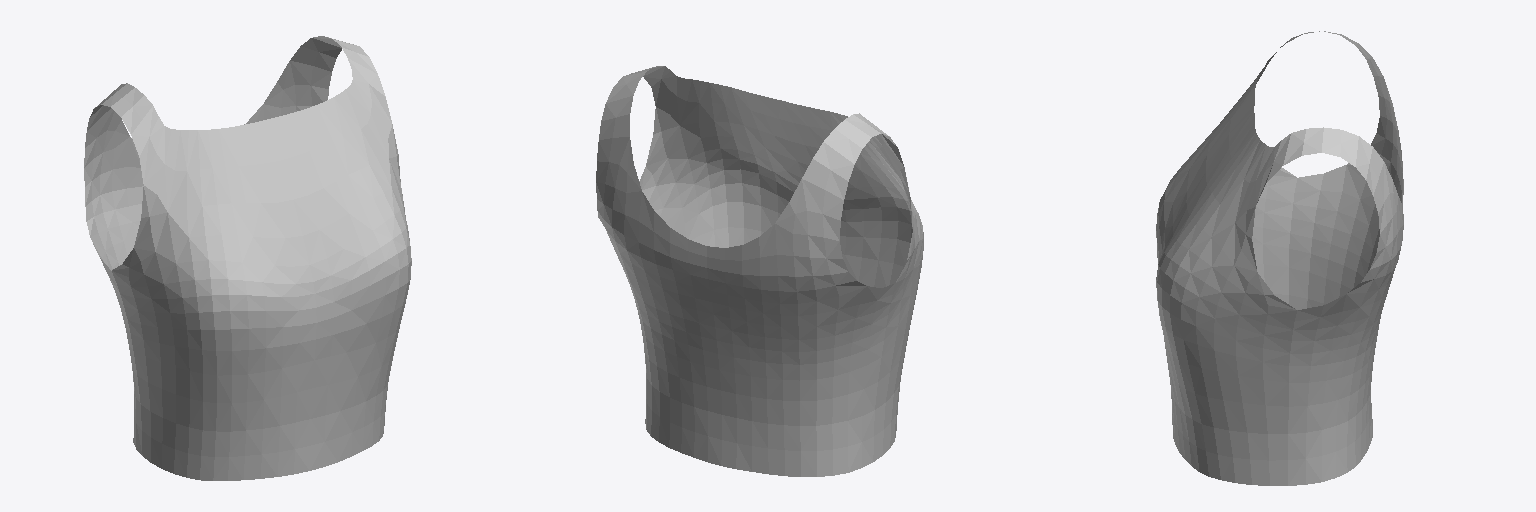
File: 6_bodiceboat.obj
The picture shows the model from 3 angles: view 1: azimuth 30°, elevation 25°; view 2: azimuth 150°, elevation 25°; view 3: azimuth 270°, elevation 25°; orthographic projection.
Visible parts, largest first — view 1: bodicefrontleft, bodicefrontright, bodicebackleft, object_7, bodicebackright, bodiceback; view 2: bodiceback, bodicebackleft, bodicefrontleft, object_7, bodicefrontright, bodicebackright; view 3: object_7, bodicebackright, bodicebackleft, bodicefrontleft, bodicefrontright, bodiceback.
Part boxes in pixels (x1,y1,x2,y2): bodicefrontleft: (111, 88, 316, 480); bodicefrontright: (269, 97, 408, 470); bodicebackleft: (84, 83, 142, 455); object_7: (333, 39, 411, 440); bodicebackright: (263, 36, 353, 119); bodiceback: (126, 105, 263, 236); bodiceback: (638, 192, 784, 475); bodicebackleft: (775, 120, 894, 476); bodicefrontleft: (781, 100, 923, 461); object_7: (623, 66, 728, 247); bodicefrontright: (710, 83, 811, 246); bodicebackright: (596, 71, 669, 447); object_7: (1170, 127, 1323, 485); bodicebackright: (1288, 128, 1399, 485); bodicebackleft: (1289, 31, 1399, 309); bodicefrontleft: (1156, 31, 1319, 303); bodicefrontright: (1156, 111, 1259, 471); bodiceback: (1361, 137, 1403, 459).
Bounding box in the file's own units: 12.35 × 15.29 × 9.71.